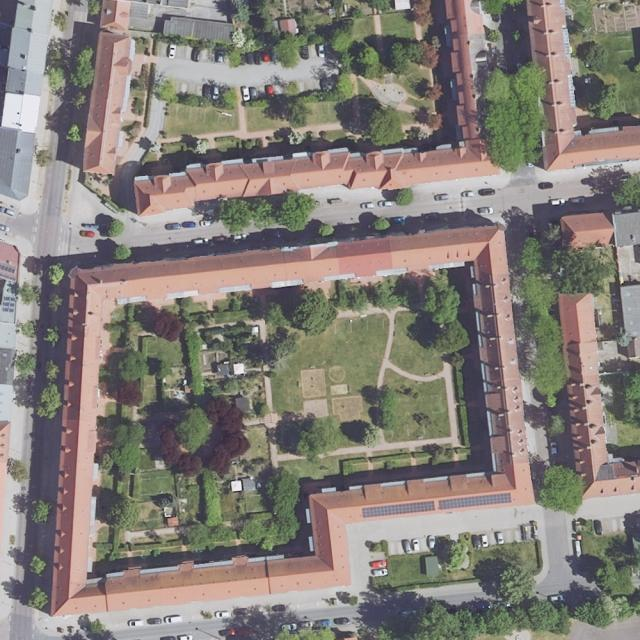PV: (438, 493, 511, 510), (362, 501, 435, 517), (3, 295, 15, 313), (0, 264, 16, 274)
